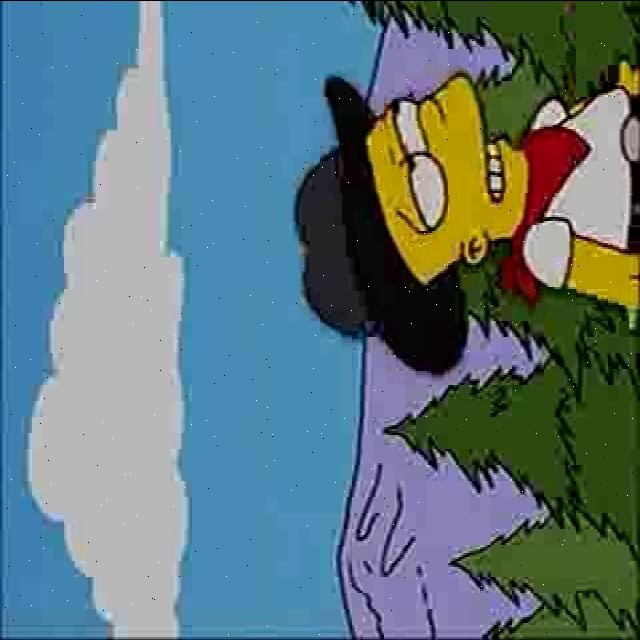Bart Simpson: (353, 74, 530, 282)
